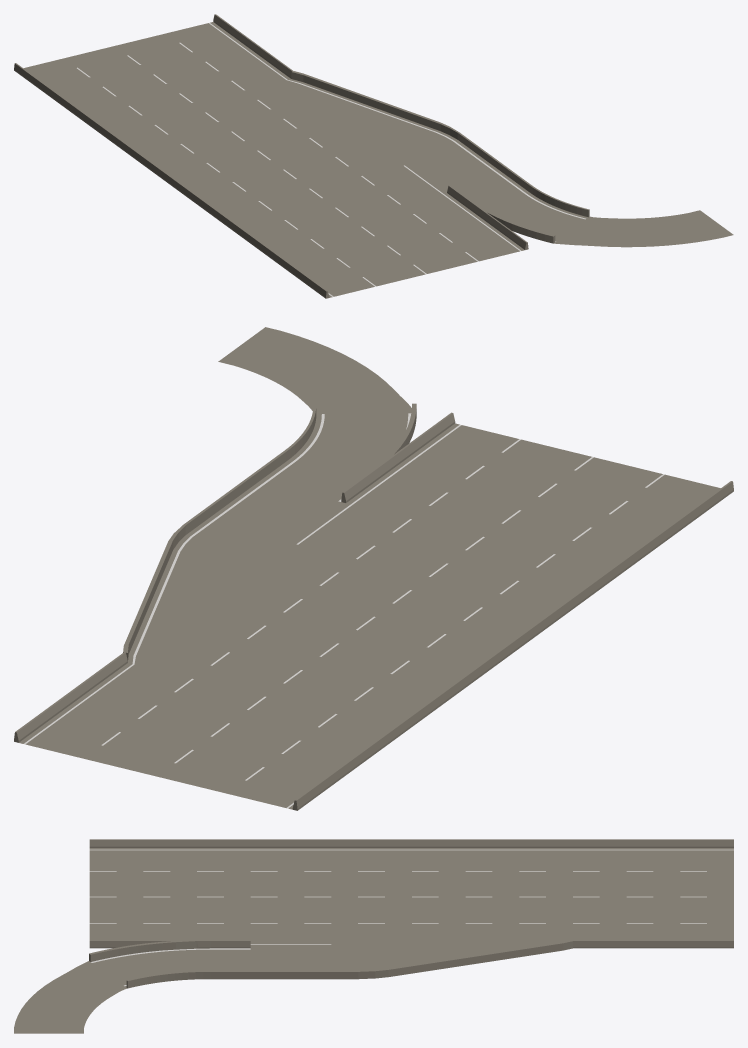
The model's file is highway_Runway.fbx.
3 renders of one model, top to bottom at view 1: azimuth 30°, elevation 25°; view 2: azimuth 150°, elevation 25°; view 3: azimuth 270°, elevation 25°, orthographic. The views are drawn at different scales.
Visible parts, largest first — view 1: Plane.001; view 2: Plane.001; view 3: Plane.001.
Part boxes in pixels (x1,y1,x2,y2): Plane.001: (14, 14, 733, 298); Plane.001: (14, 327, 733, 810); Plane.001: (14, 839, 733, 1033).
Size of the model in its own units: 55 by 1 by 89.4.
